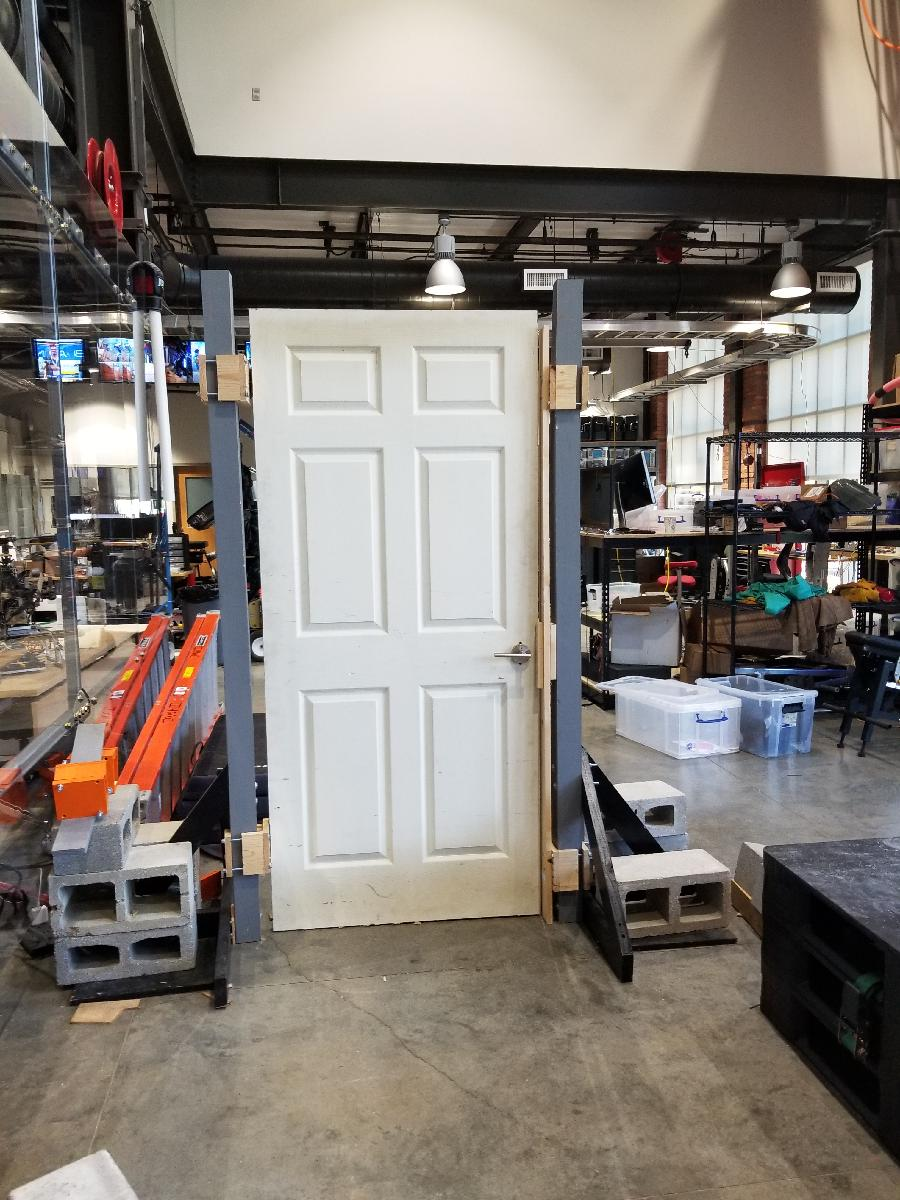door: (245, 303, 552, 934)
doorHandle: (486, 641, 538, 675)
